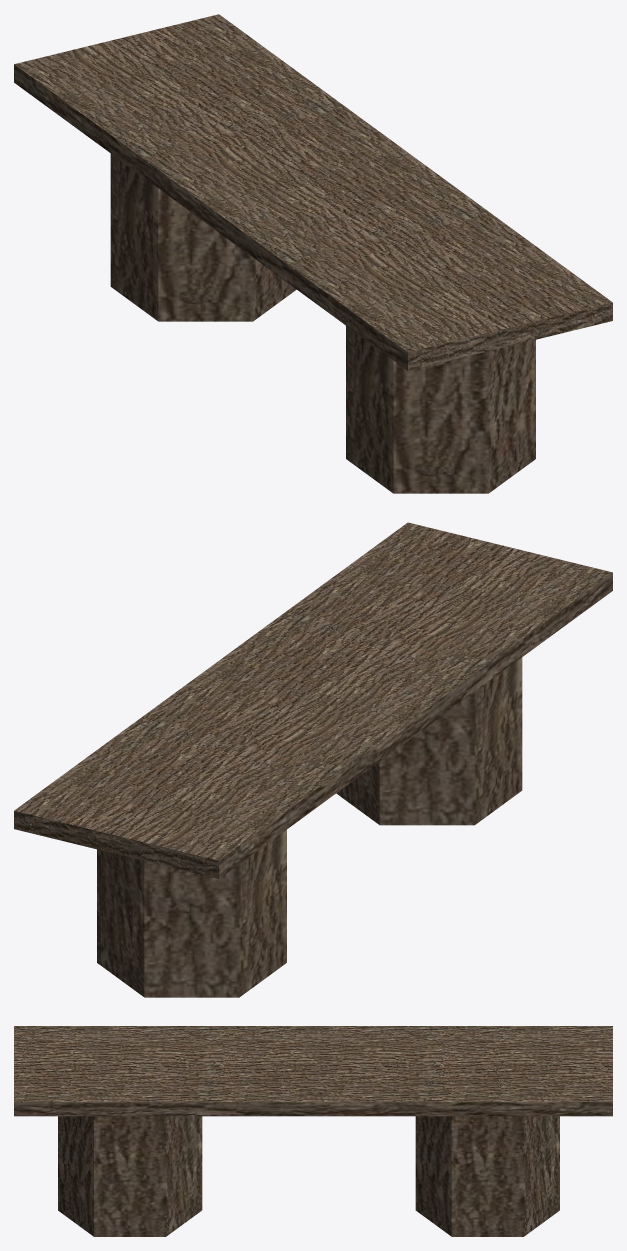
File: Bench.fbx
3 views of the same model, one above another, from view 1: azimuth 30°, elevation 25°; view 2: azimuth 150°, elevation 25°; view 3: azimuth 270°, elevation 25° (orthographic). The views are drawn at different scales.
Parts seen in each view (by area): view 1: Cube, Cylinder, Cylinder.002; view 2: Cube, Cylinder.002, Cylinder; view 3: Cube, Cylinder.002, Cylinder.
Part boxes in pixels (x1,y1,x2,y2): Cube: [14, 14, 612, 370]; Cylinder: [346, 326, 535, 493]; Cylinder.002: [110, 153, 296, 321]; Cube: [14, 522, 612, 878]; Cylinder.002: [97, 829, 286, 997]; Cylinder: [336, 657, 522, 825]; Cube: [14, 1026, 612, 1116]; Cylinder.002: [415, 1116, 559, 1236]; Cylinder: [58, 1116, 202, 1236].
Bounding box in the file's own units: 200 × 176 × 665.
Materials: 1 (1 with a texture image).
